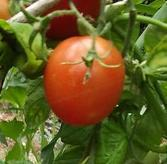tomato: (45, 35, 124, 123)
